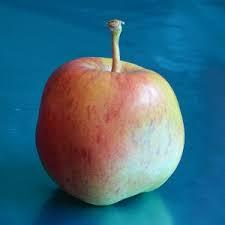Apple: (31, 14, 186, 206)
